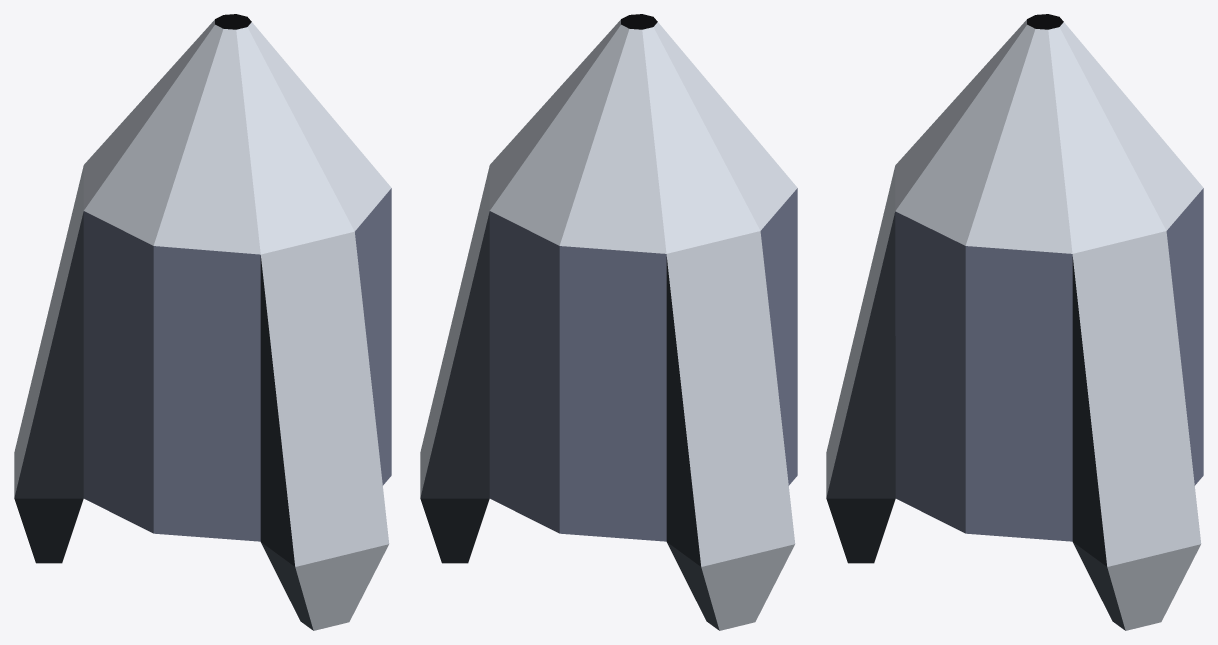
File: Rocket_body.glb
The picture shows the model from 3 angles, left to right: view 1: azimuth 30°, elevation 25°; view 2: azimuth 150°, elevation 25°; view 3: azimuth 270°, elevation 25°; orthographic projection.
Parts seen in each view (by area): view 1: rocketBody; view 2: rocketBody; view 3: rocketBody.
Boxes of the visible parts, x1,y1,x2,y2 form: rocketBody: (14, 14, 391, 630); rocketBody: (420, 14, 797, 630); rocketBody: (826, 14, 1203, 630).
Size of the model in its own units: 2.73 by 3.7 by 2.38.
Materials: 1 (1 with a texture image).
